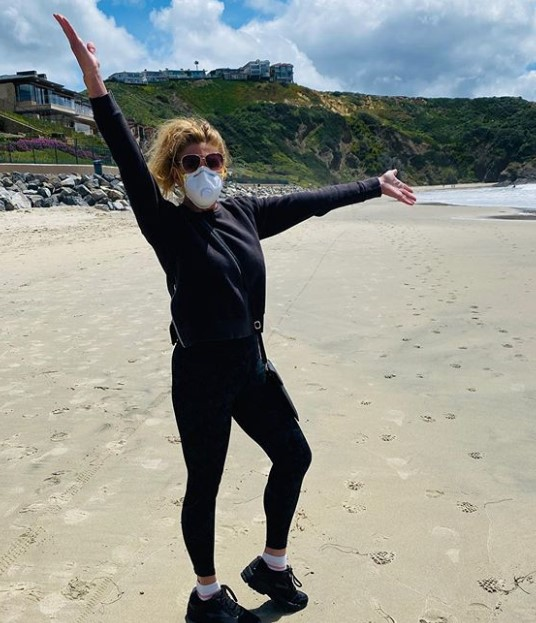face_with_mask: (163, 125, 226, 209)
